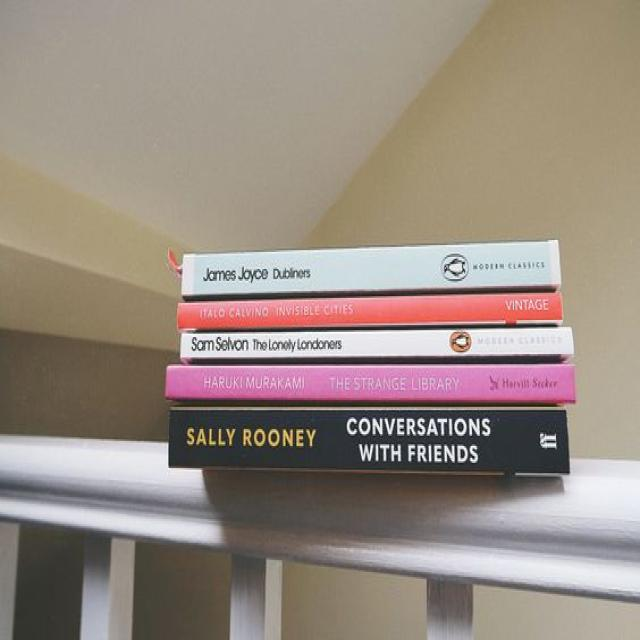book: (169, 407, 569, 471), (183, 240, 561, 298), (165, 364, 575, 400), (177, 293, 562, 329), (180, 327, 573, 361)
